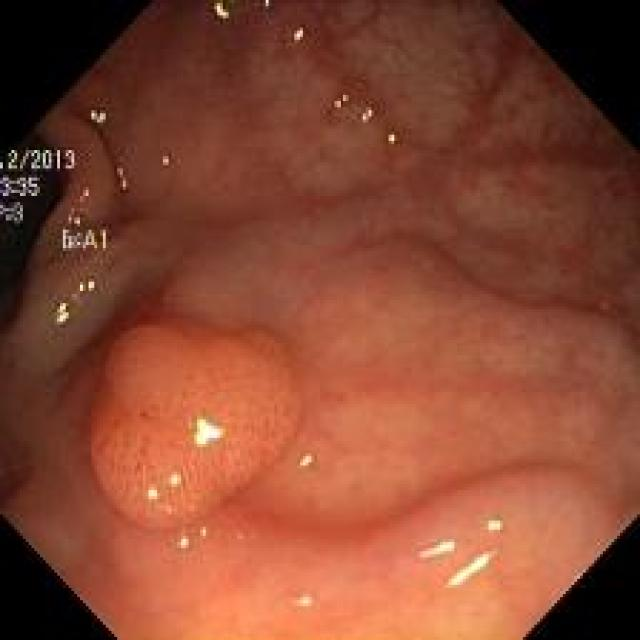Polyps: (90, 322, 299, 529)
